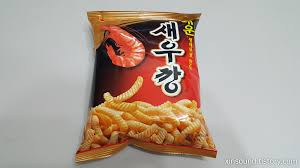snack1: (70, 7, 220, 165)
